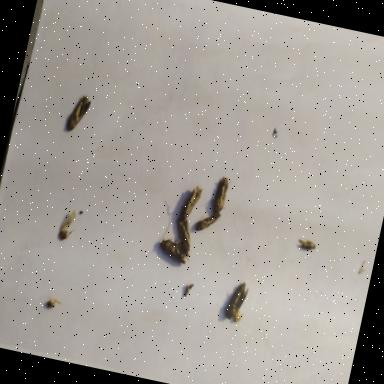pbw: (220, 277, 252, 326), (168, 213, 199, 260), (63, 90, 94, 136), (174, 180, 204, 224), (208, 173, 236, 220), (192, 205, 224, 237), (292, 233, 318, 255)
